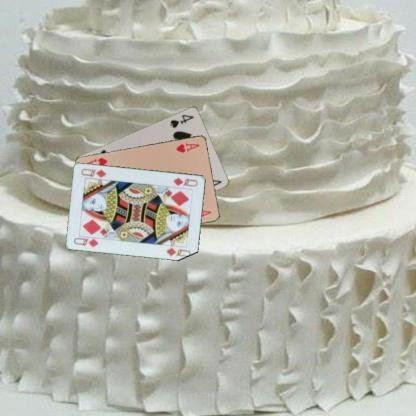4s: (168, 111, 195, 129)
Ah: (173, 140, 200, 154)
Qd: (72, 233, 102, 248), (171, 175, 199, 187)
